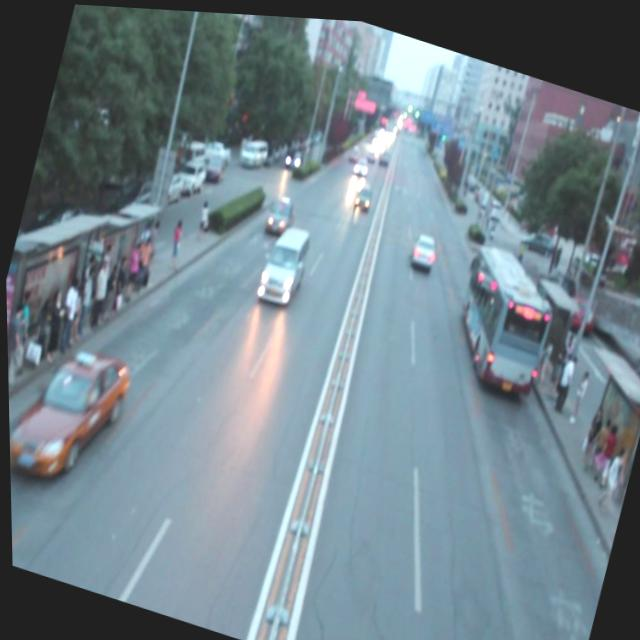car: (6, 325, 137, 498), (404, 222, 440, 267), (262, 187, 295, 232), (350, 178, 374, 210), (349, 148, 370, 177)
truck: (257, 217, 312, 304)
van: (441, 234, 563, 396)
